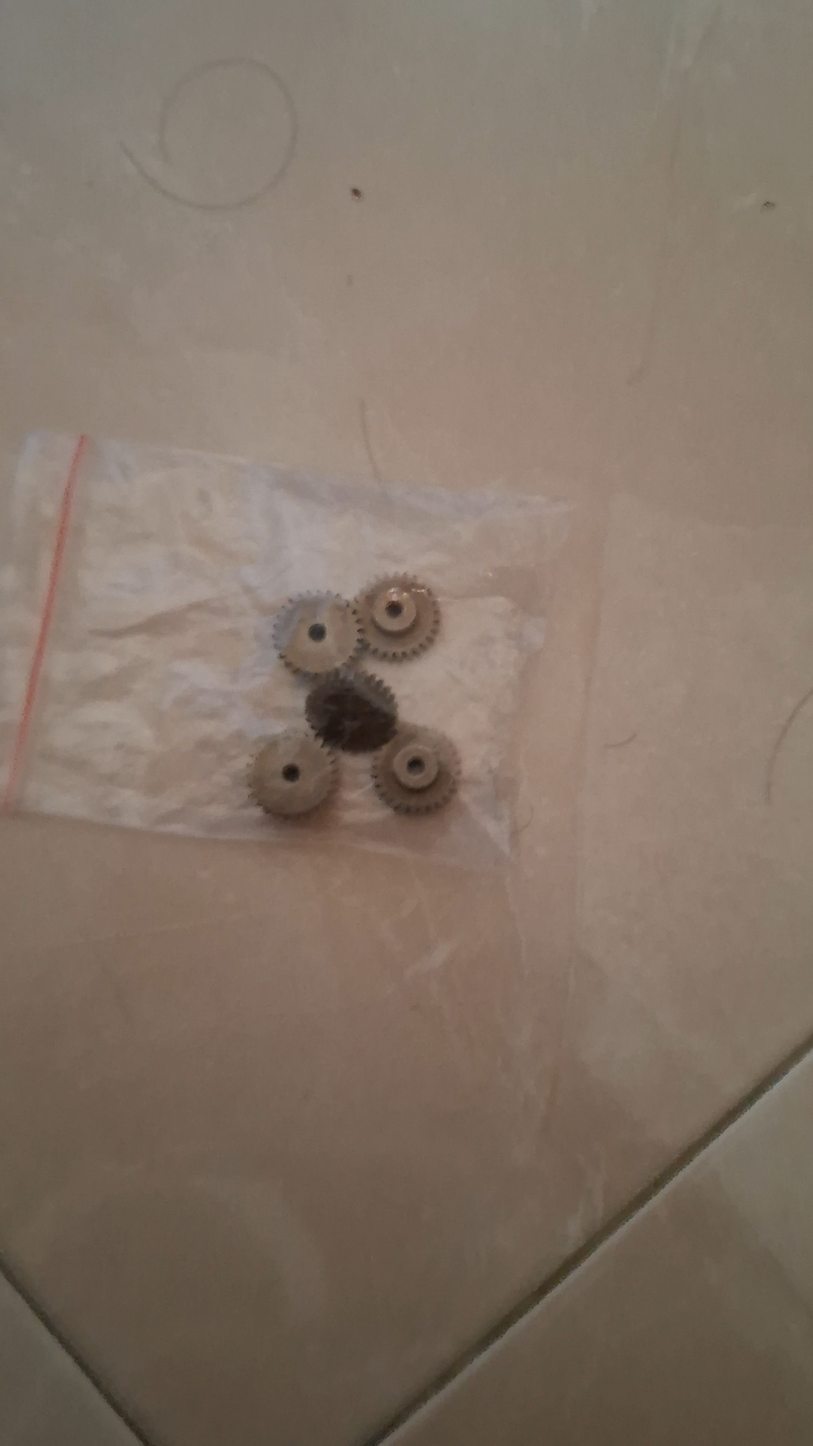spur gear: (248, 730, 338, 817), (372, 725, 460, 813), (306, 668, 396, 752), (355, 575, 440, 660), (273, 593, 361, 675)
